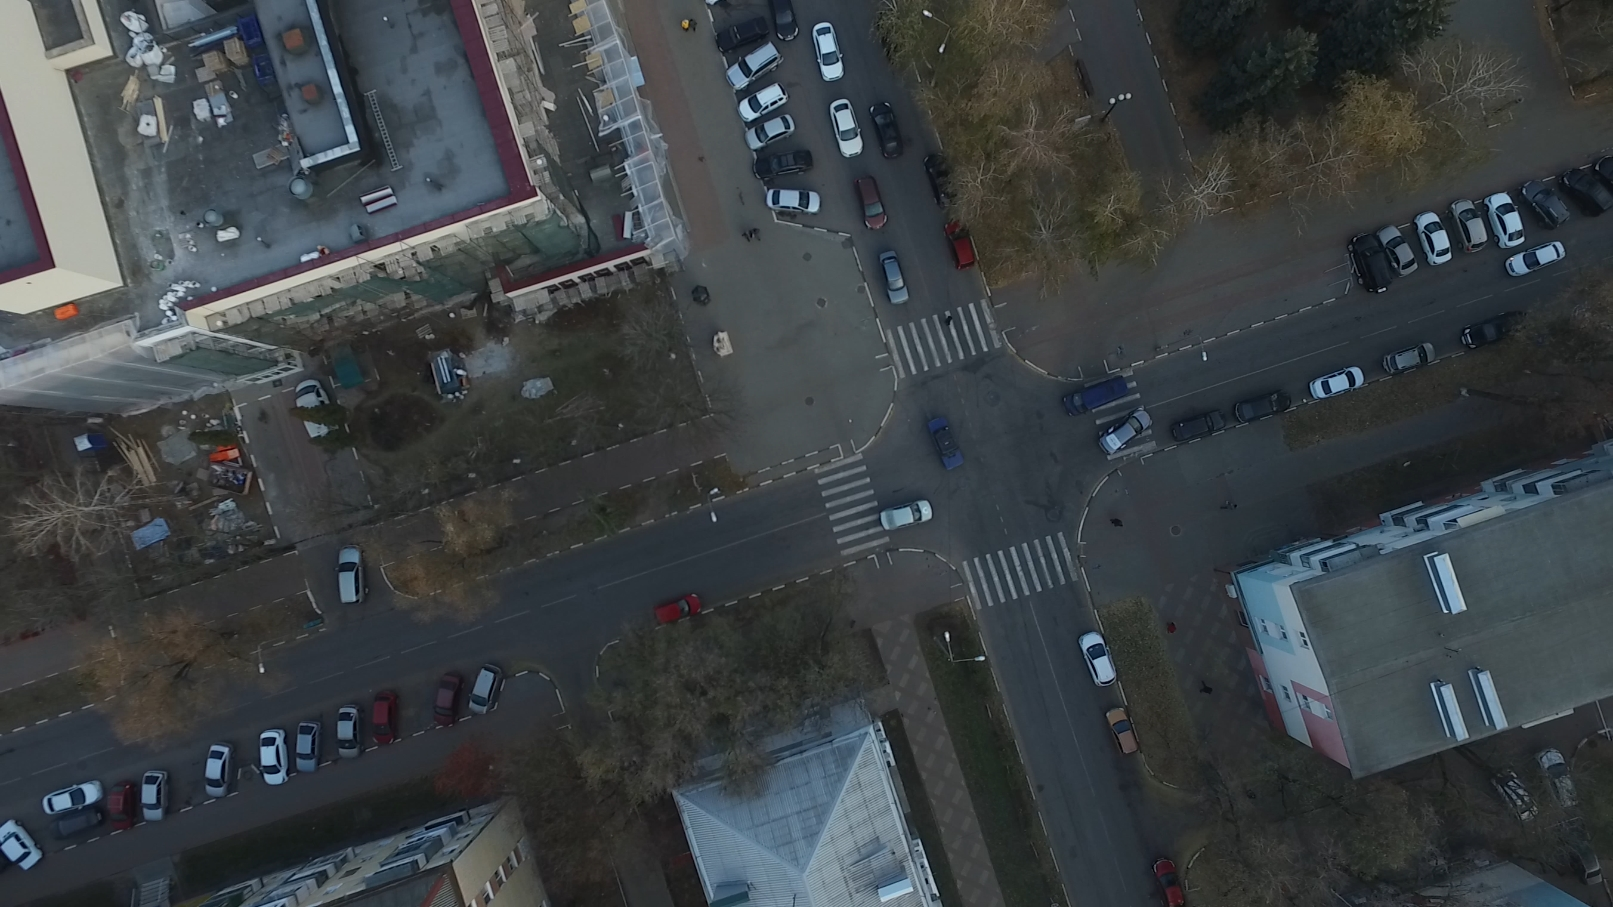car: (1532, 748, 1581, 820), (1462, 306, 1530, 350), (1098, 408, 1154, 458), (1352, 230, 1397, 293), (725, 42, 785, 89), (1521, 178, 1574, 230), (1061, 375, 1128, 415), (1486, 767, 1533, 822), (333, 544, 370, 610), (1077, 629, 1119, 687), (1453, 197, 1494, 256), (734, 81, 792, 122), (1564, 165, 1610, 215), (744, 109, 797, 151), (38, 782, 101, 816), (921, 150, 960, 204), (716, 16, 770, 55), (1504, 241, 1565, 277), (1309, 362, 1365, 401), (831, 99, 865, 159), (1143, 856, 1184, 907), (1172, 409, 1227, 446), (1, 818, 41, 870), (1379, 221, 1417, 276), (927, 418, 966, 470), (1490, 190, 1524, 249), (135, 769, 173, 822), (1417, 207, 1452, 264), (259, 726, 291, 789), (812, 23, 844, 85), (468, 663, 507, 713), (201, 744, 237, 798), (430, 672, 464, 730), (1381, 341, 1437, 377), (290, 715, 322, 776), (875, 248, 910, 305), (100, 780, 137, 831), (767, 184, 828, 215), (871, 102, 904, 158), (856, 172, 888, 229), (1105, 707, 1141, 756), (942, 214, 975, 268), (879, 497, 932, 530), (1236, 390, 1292, 421), (336, 702, 364, 761), (757, 150, 815, 178), (650, 594, 703, 623), (373, 691, 398, 744), (771, 1, 801, 38)
